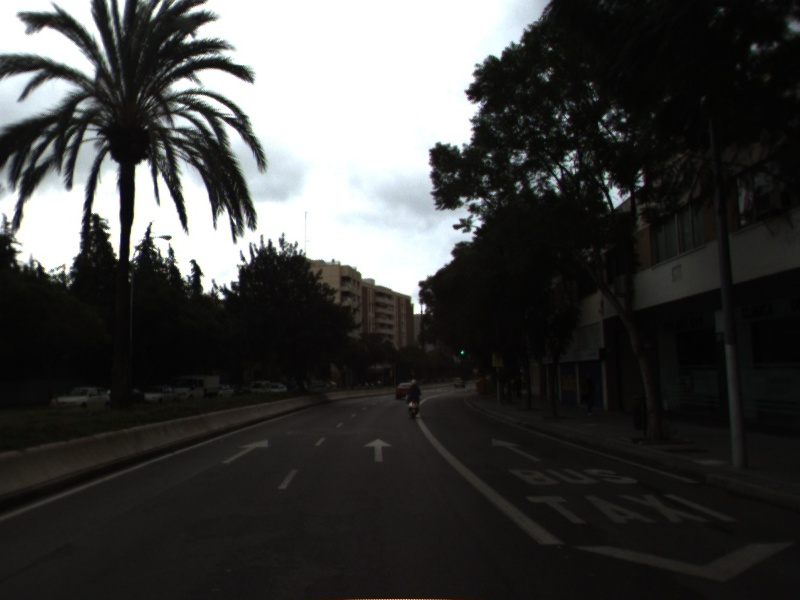STRAIGHT: (219, 437, 271, 465), (490, 436, 543, 463), (362, 436, 395, 464)
